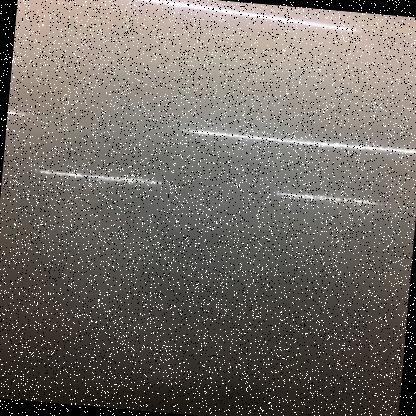Nocrack: (3, 8, 415, 415)
